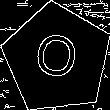O_S: (31, 29, 83, 88)
